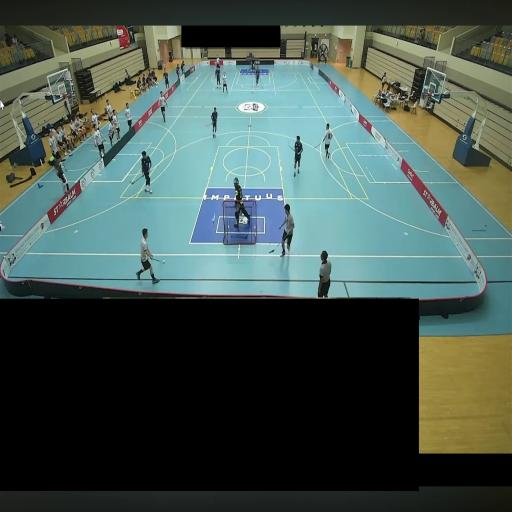Goalkeeper: (234, 177, 250, 227), (251, 56, 255, 70)
Player: (136, 228, 159, 283), (279, 204, 294, 256), (141, 151, 152, 193), (293, 136, 303, 177), (322, 123, 333, 159), (159, 91, 167, 122), (211, 108, 218, 137), (215, 65, 221, 88), (222, 72, 227, 94), (256, 65, 260, 86)
Referee: (318, 251, 331, 297), (216, 56, 219, 64)
ball: (163, 259, 165, 264)
